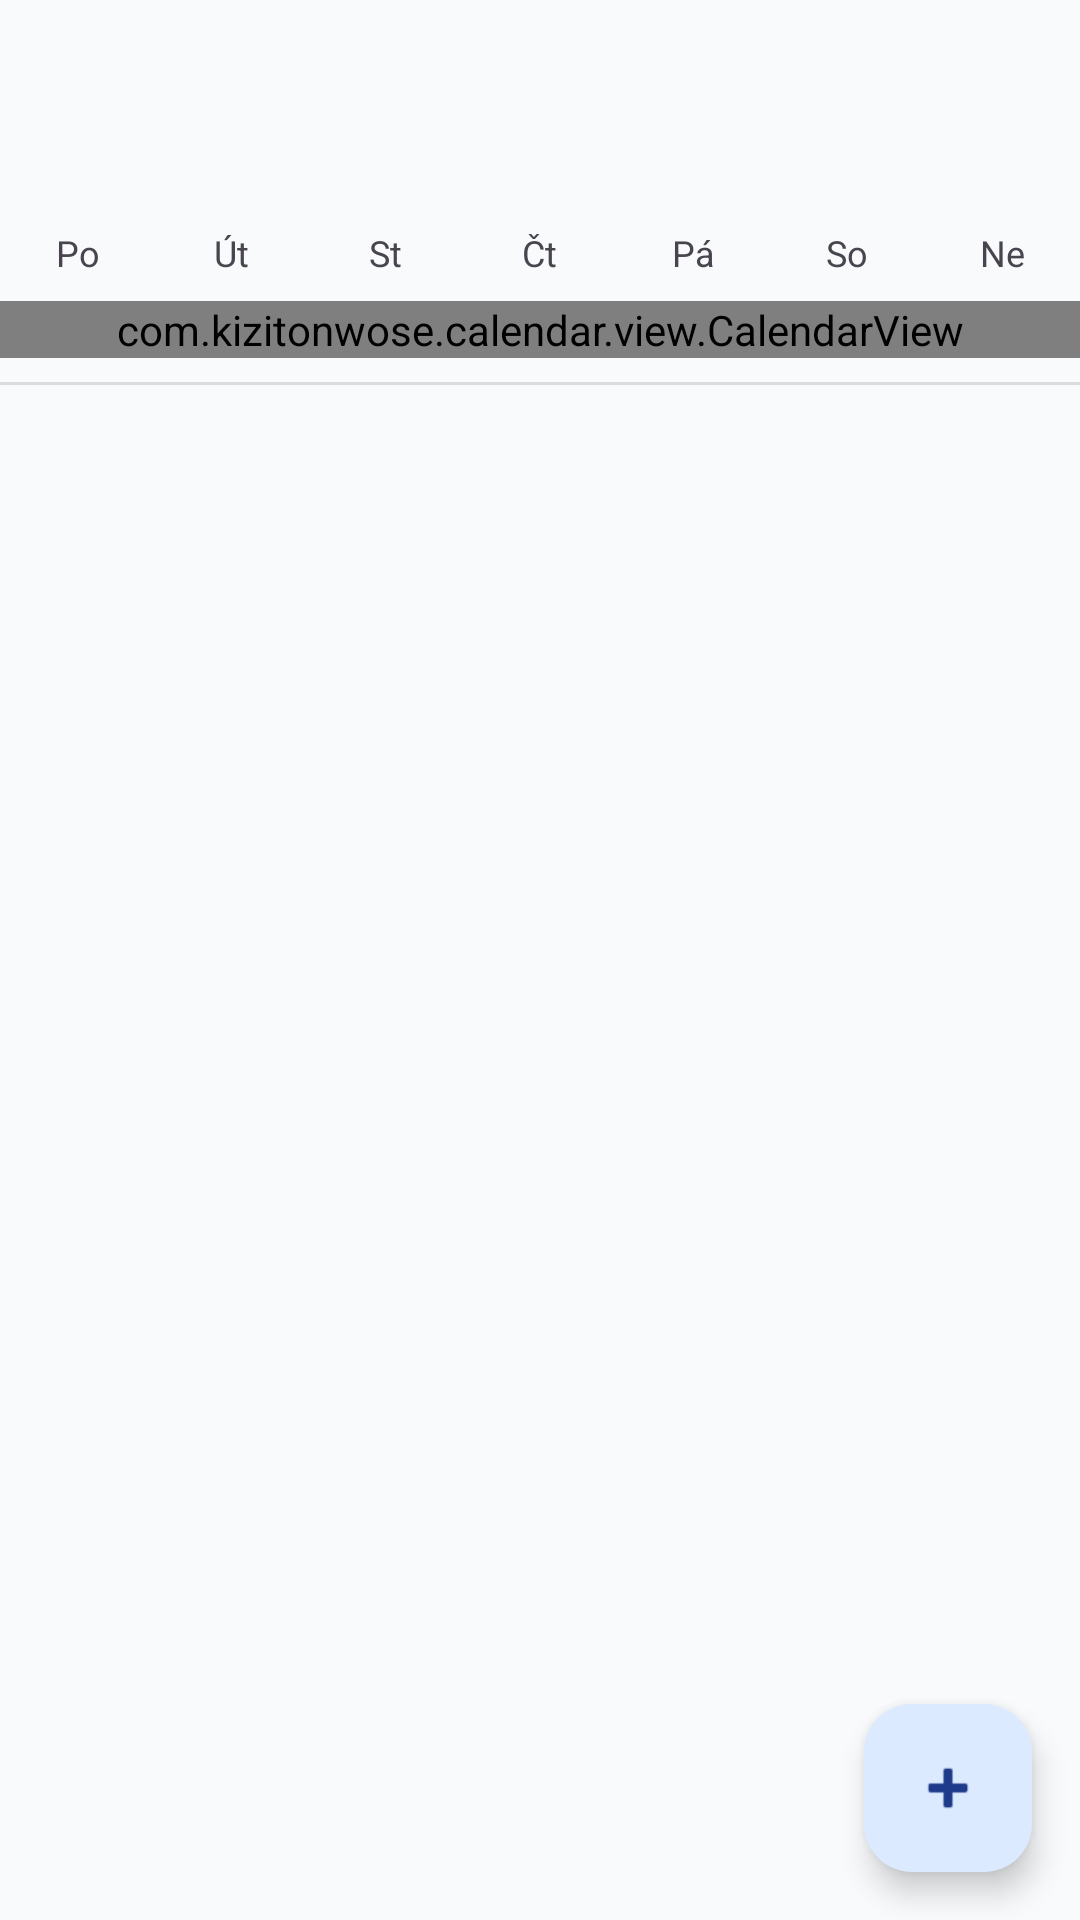

Where to tap for icons on this 1080*1920 app screen, as point (x, y):
Přidat trénink: point (948, 1788)
